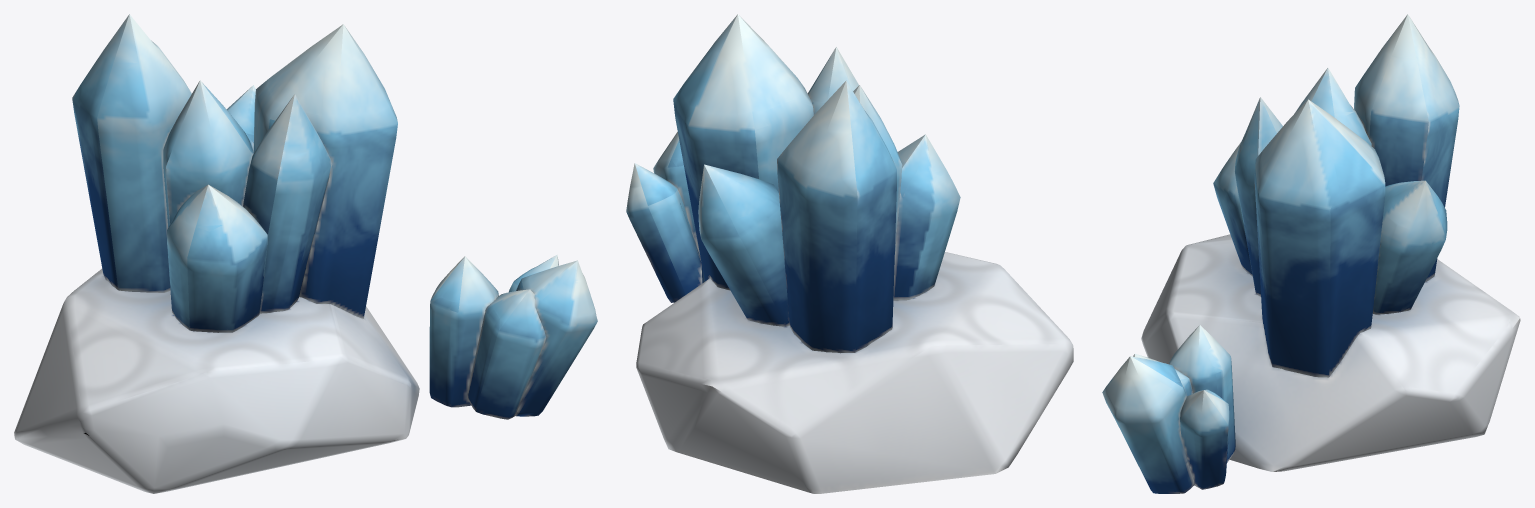
File: Glace_Cristaux.fbx
The picture shows the model from 3 angles, left to right: view 1: azimuth 30°, elevation 25°; view 2: azimuth 150°, elevation 25°; view 3: azimuth 270°, elevation 25°; orthographic projection. The views are drawn at different scales.
Visible parts, largest first — view 1: Glace_Cristaux; view 2: Glace_Cristaux; view 3: Glace_Cristaux.
Part boxes in pixels (x1,y1,x2,y2): Glace_Cristaux: (14, 14, 597, 493); Glace_Cristaux: (626, 14, 1073, 493); Glace_Cristaux: (1102, 14, 1520, 493).
Size of the model in its own units: 516 by 399 by 423.
Materials: 1 (1 with a texture image).
